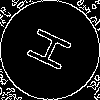H: (25, 25, 82, 78)
